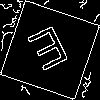E: (25, 25, 76, 80)
